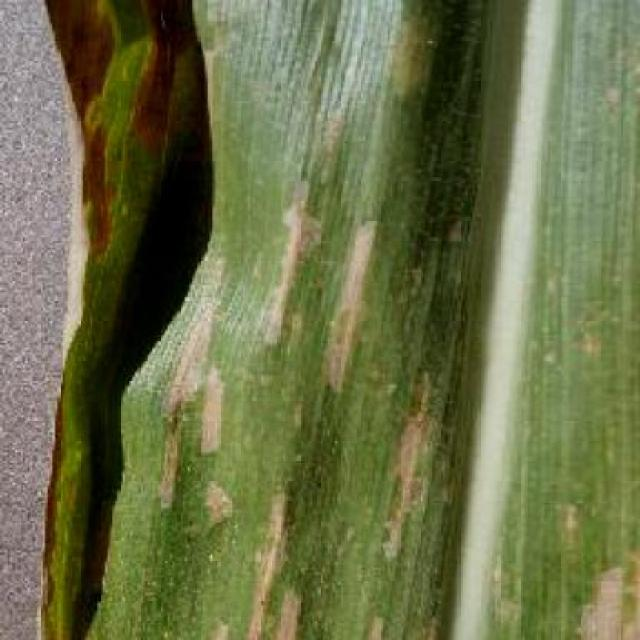Corn_Grey_Leaf_Spot: (40, 1, 607, 640)
